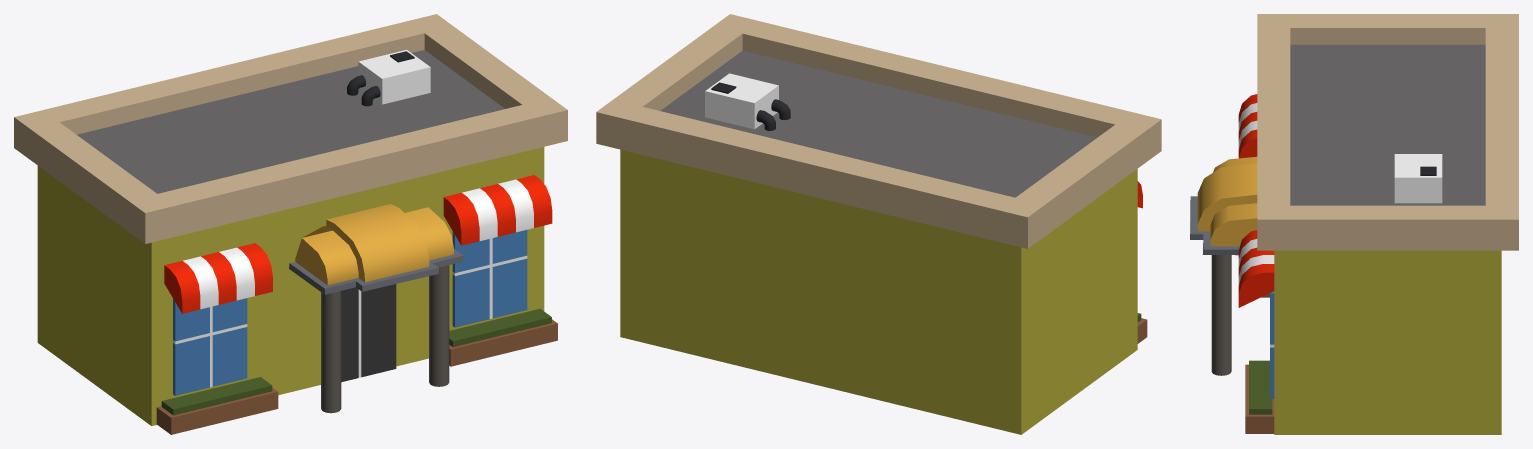
The model's file is Shop_2.fbx.
The picture shows the model from 3 angles, left to right: view 1: azimuth 30°, elevation 25°; view 2: azimuth 150°, elevation 25°; view 3: azimuth 270°, elevation 25°; orthographic projection. The views are drawn at different scales.
Visible parts, largest first — view 1: Shop_2; view 2: Shop_2; view 3: Shop_2.
Part boxes in pixels (x1,y1,x2,y2): Shop_2: (14, 14, 567, 434); Shop_2: (596, 14, 1161, 434); Shop_2: (1190, 14, 1518, 434).
Size of the model in its own units: 1386 by 734 by 936.
